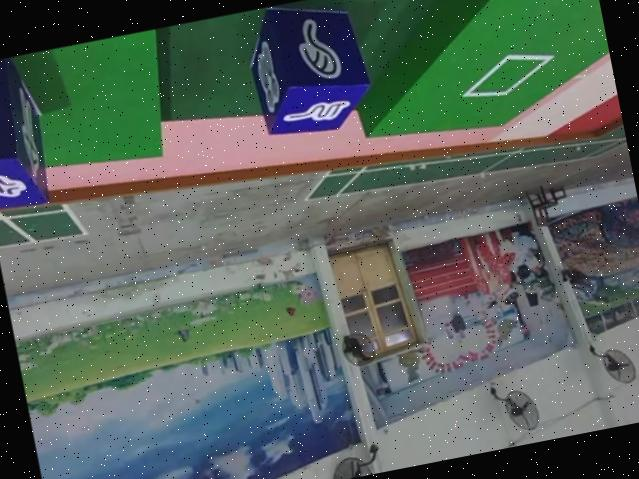R2 Fake Blue: (240, 0, 378, 142), (0, 53, 53, 214)
